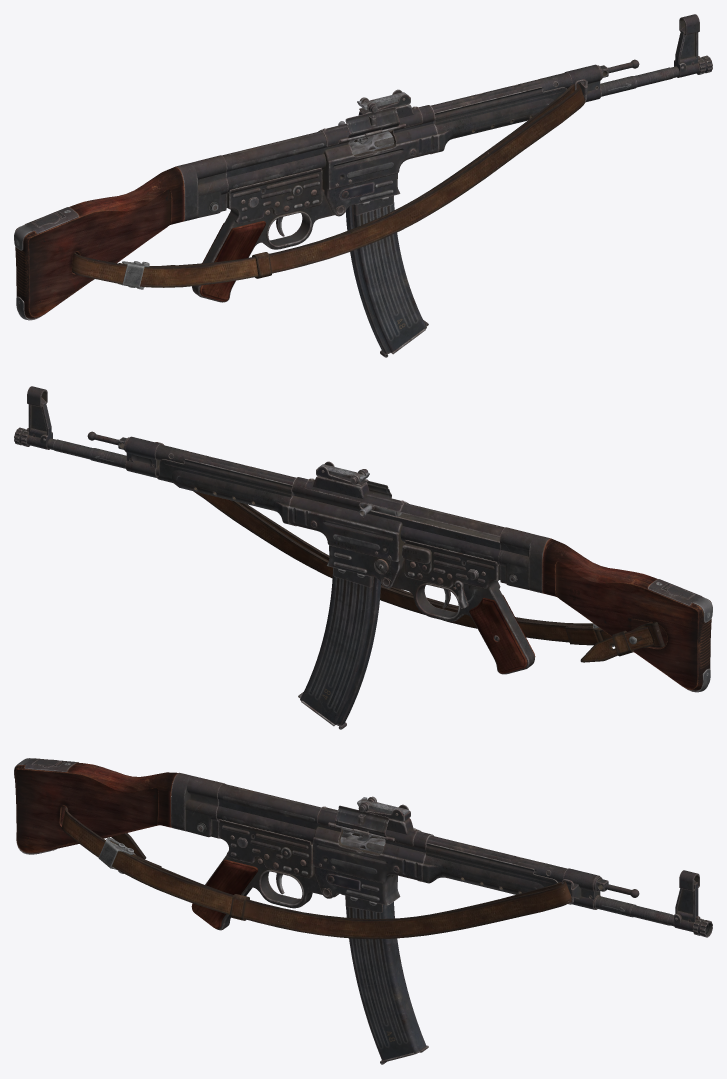
Rendered from stg44.glb.
The picture shows the model from 3 angles, top to bottom: view 1: azimuth 30°, elevation 25°; view 2: azimuth 150°, elevation 25°; view 3: azimuth 330°, elevation 25°; orthographic projection.
Visible parts, largest first — view 1: stock, sling, receiver, magazine, trigger_group, handguard, barrel, grip_r, gas_tube, dust_cover, bolt; view 2: stock, receiver, sling, magazine, trigger_group, handguard, barrel, grip_l, gas_tube; view 3: stock, sling, receiver, magazine, trigger_group, handguard, barrel, grip_r, gas_tube, dust_cover, bolt.
Part boxes in pixels (<box>): stock: <box>14,155,228,320</box>; sling: <box>72,83,585,289</box>; receiver: <box>222,89,438,216</box>; magazine: <box>345,195,428,357</box>; trigger_group: <box>192,168,334,302</box>; handguard: <box>430,84,566,154</box>; barrel: <box>553,25,699,102</box>; grip_r: <box>199,221,265,301</box>; gas_tube: <box>431,72,571,120</box>; dust_cover: <box>345,107,399,138</box>; bolt: <box>349,131,394,154</box>; stock: <box>498,527,712,692</box>; receiver: <box>288,461,504,588</box>; sling: <box>193,491,664,662</box>; magazine: <box>298,567,381,729</box>; trigger_group: <box>392,540,534,674</box>; handguard: <box>157,456,296,526</box>; barrel: <box>27,397,173,477</box>; grip_l: <box>469,597,527,673</box>; gas_tube: <box>155,444,295,492</box>; stock: <box>14,758,224,854</box>; sling: <box>62,807,571,939</box>; receiver: <box>216,784,433,912</box>; magazine: <box>346,902,428,1064</box>; trigger_group: <box>205,819,339,930</box>; handguard: <box>417,842,557,894</box>; barrel: <box>547,868,709,933</box>; grip_r: <box>191,859,257,928</box>; gas_tube: <box>427,835,567,882</box>; dust_cover: <box>335,805,388,837</box>; bolt: <box>340,832,385,853</box>.
Bounding box in the file's own units: 0.94 × 0.3448 × 0.0653.
Materials: 5 (5 with a texture image).
